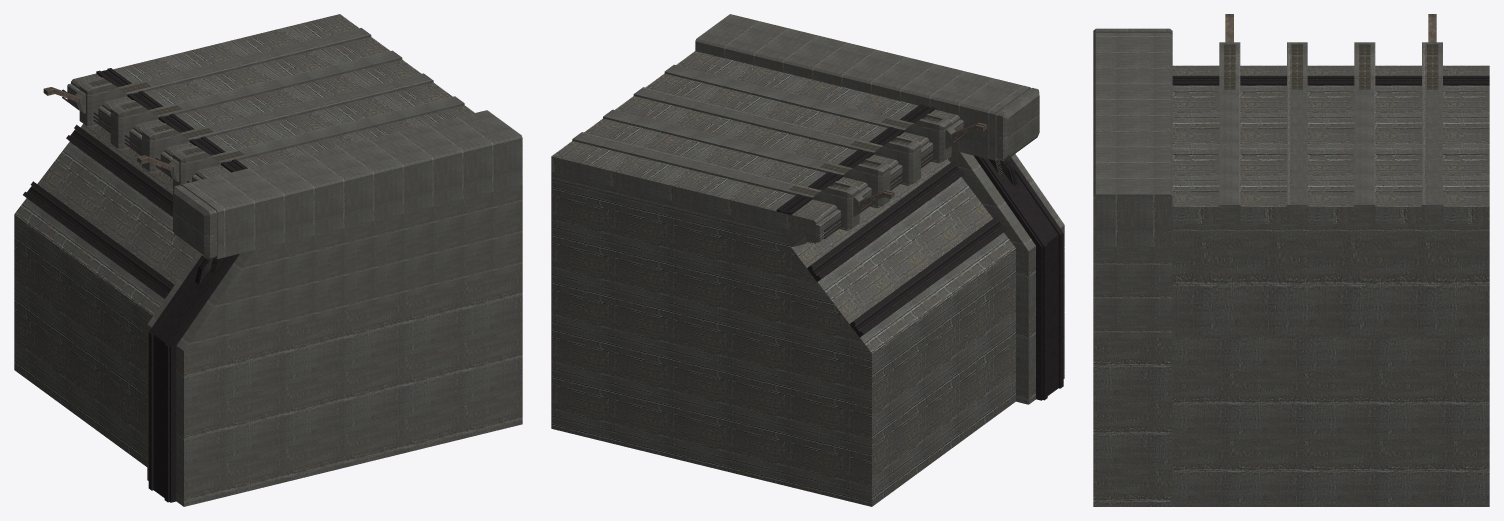
File: wall_corner.fbx
3 renders of one model, left to right at view 1: azimuth 30°, elevation 25°; view 2: azimuth 150°, elevation 25°; view 3: azimuth 270°, elevation 25°, orthographic. The views are drawn at different scales.
Visible parts, largest first — view 1: Object; view 2: Object; view 3: Object.
Boxes of the visible parts, left/top/right/bottom form: Object: left=14, top=14, right=522, bottom=506; Object: left=551, top=14, right=1064, bottom=506; Object: left=1093, top=14, right=1489, bottom=506.
Bounding box in the file's own units: 9300 × 7650 × 8500.
